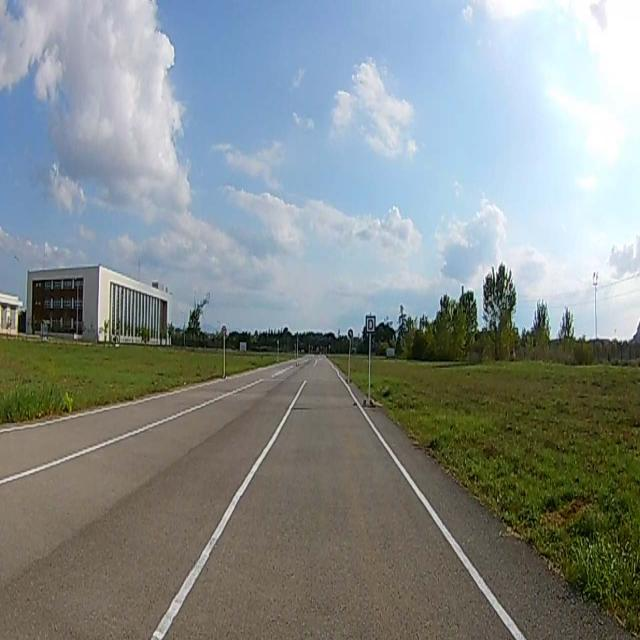durak: (366, 317, 375, 334)
